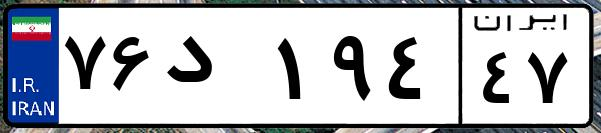1: (270, 28, 330, 110)
4: (385, 28, 445, 110), (475, 38, 525, 113)
6: (110, 28, 158, 98)
7: (57, 26, 110, 100), (525, 38, 570, 115)
9: (330, 28, 385, 110)
د: (158, 20, 270, 120)
